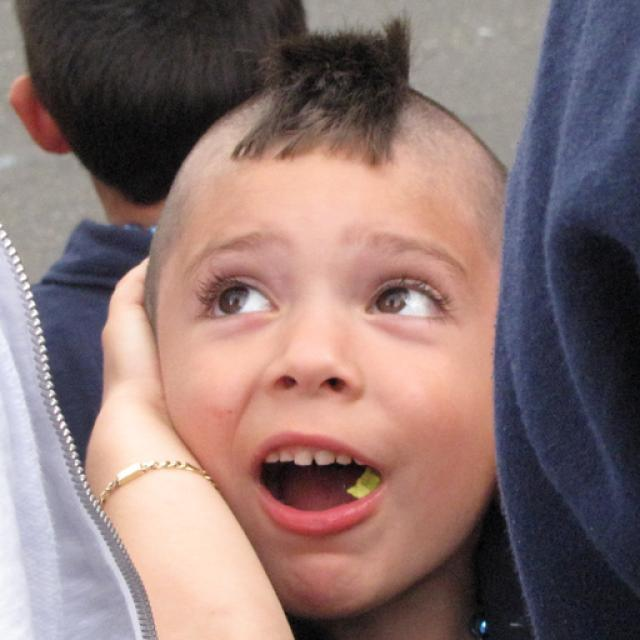0_rostro_limpio: (179, 39, 499, 623)
